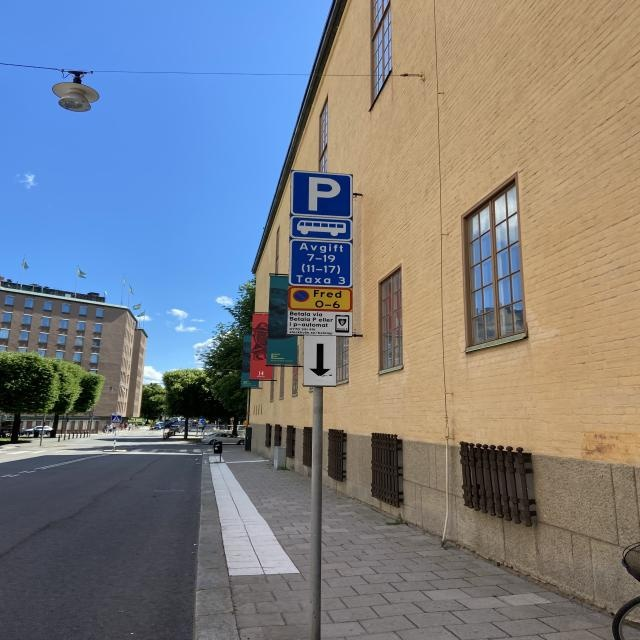P-skylt: (290, 170, 350, 218)
